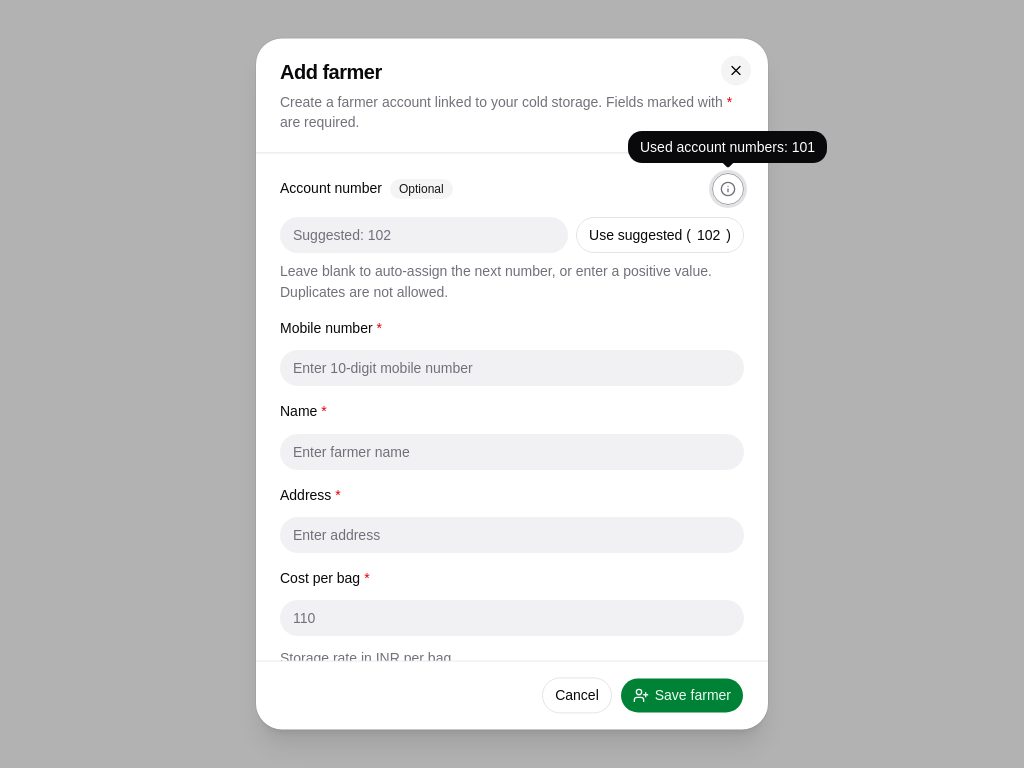
Test: AddFarmerDialog › shows required field errors when submitting an empty form
What coordinates should you click on to do the following:
click the button "Save farmer"
I would click on:
 (682, 696)
Its box is [620,678,744,714].
(page scrolled)
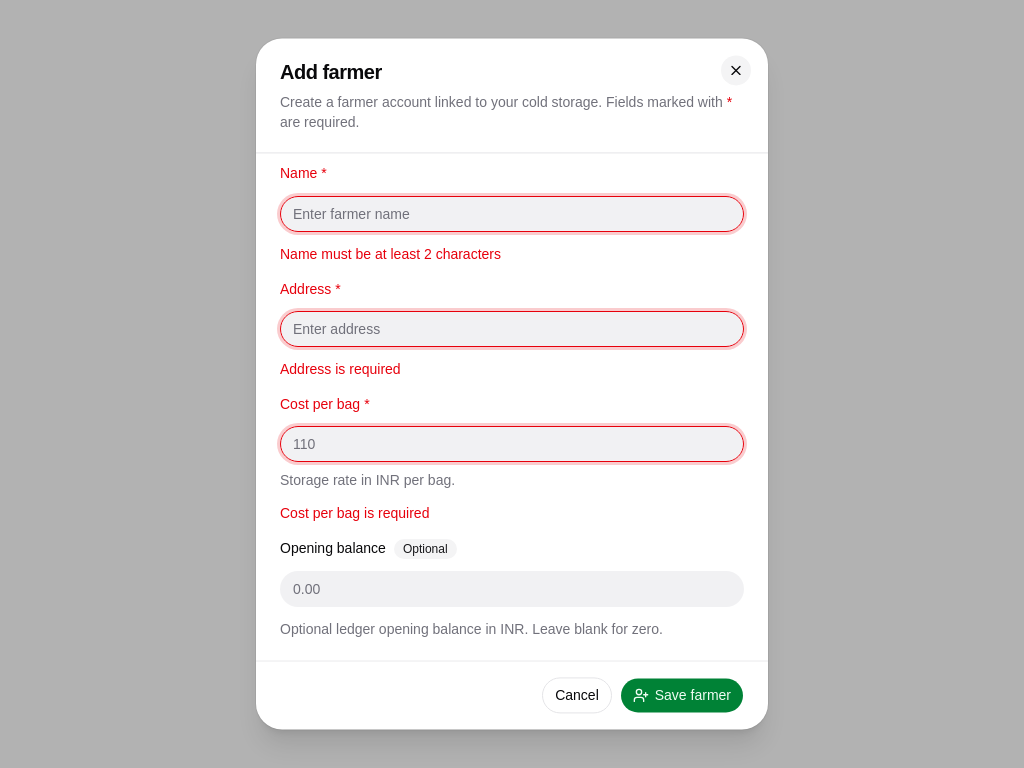
Expected: the text "Name must be at least 2 characters" is shown, [280,246,501,262]
Expected: the text "Address is required" is shown, [280,361,401,377]
Expected: the text "Cost per bag is required" is shown, [280,505,429,521]
